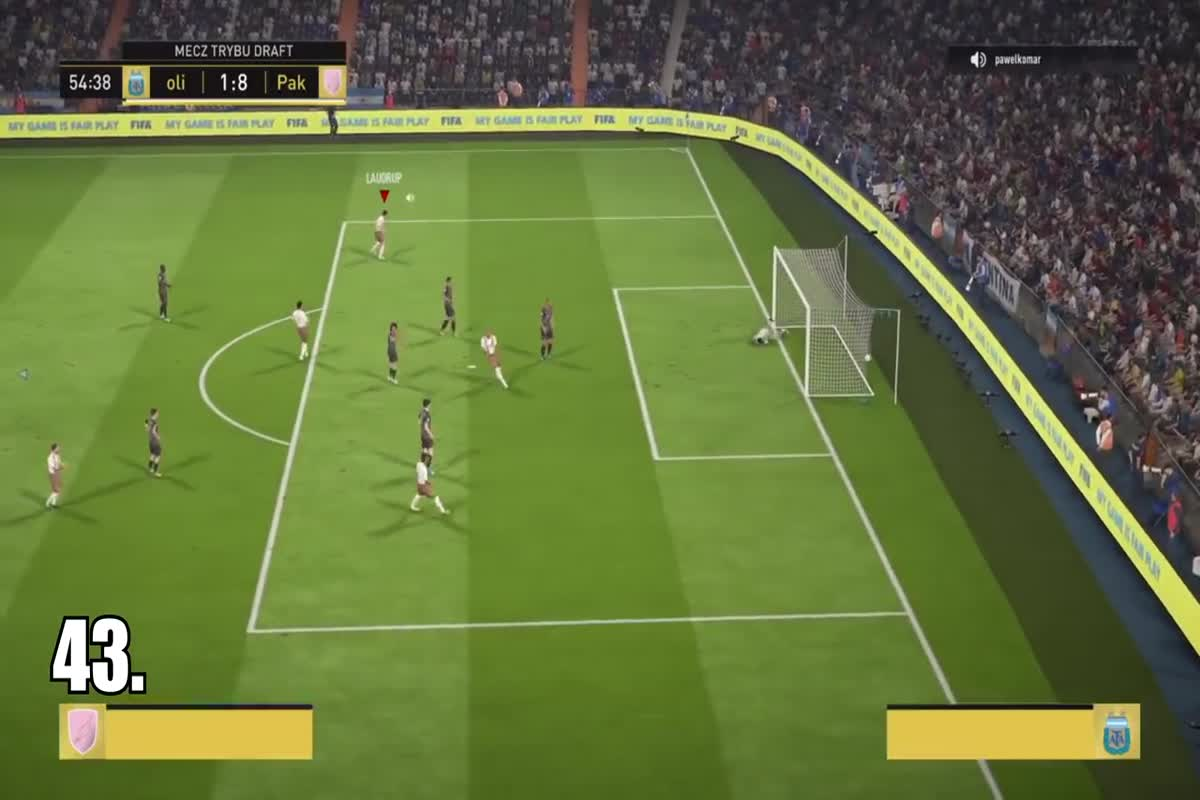ball: (863, 350, 877, 367)
